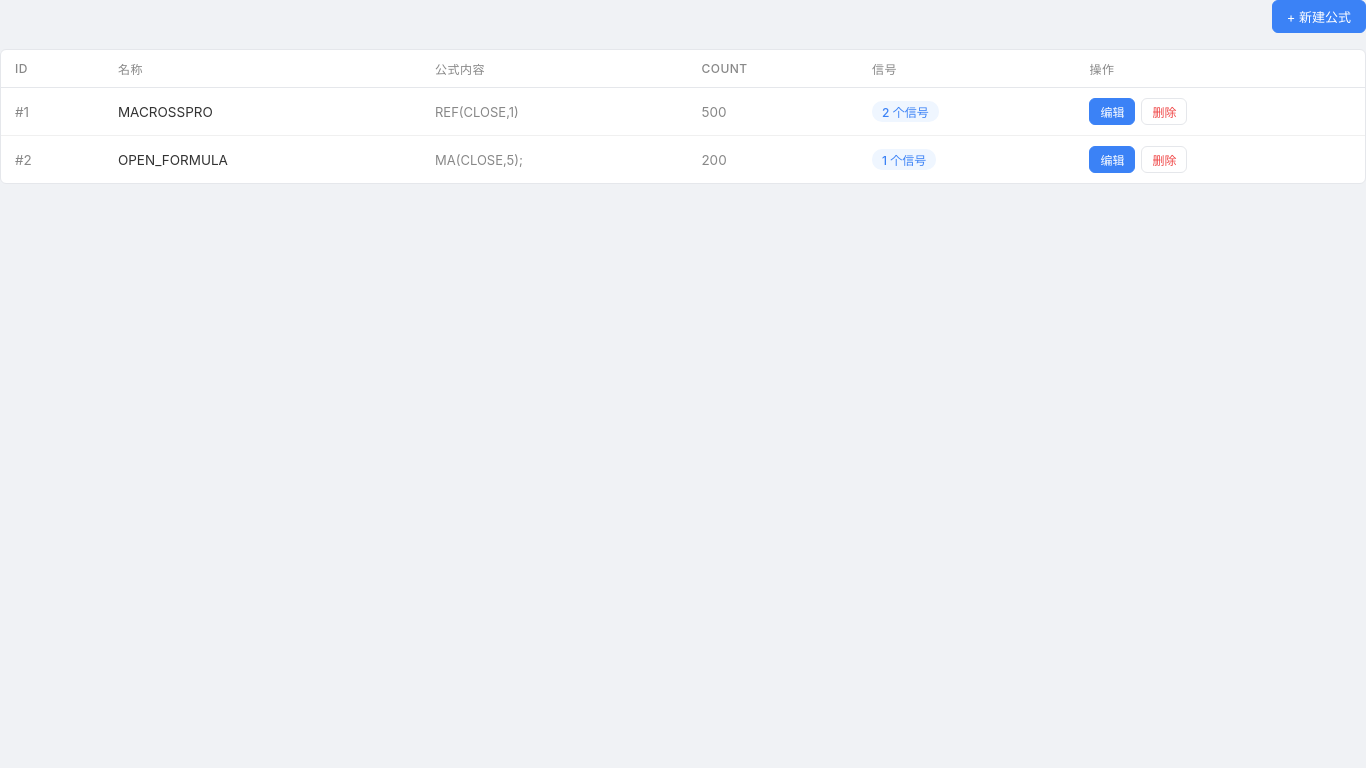
Scenario: Formulas.vue › 点[+添加信号]新增一行信号配置（信号行数 +1）
Click the button "+ 新建公式" at (1319,16), box [1272,0,1365,33]
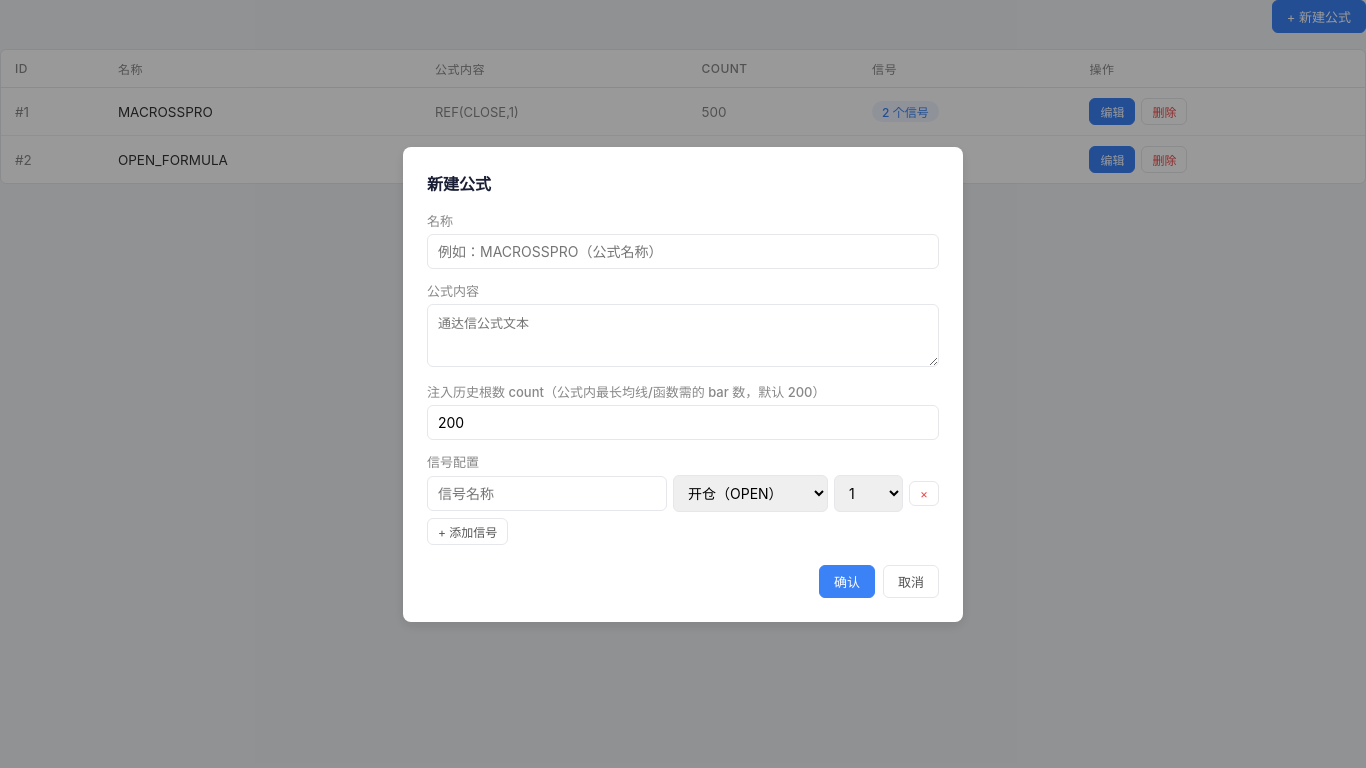
Click the button with class "signal-add" at (468,531), box [427,518,508,544]
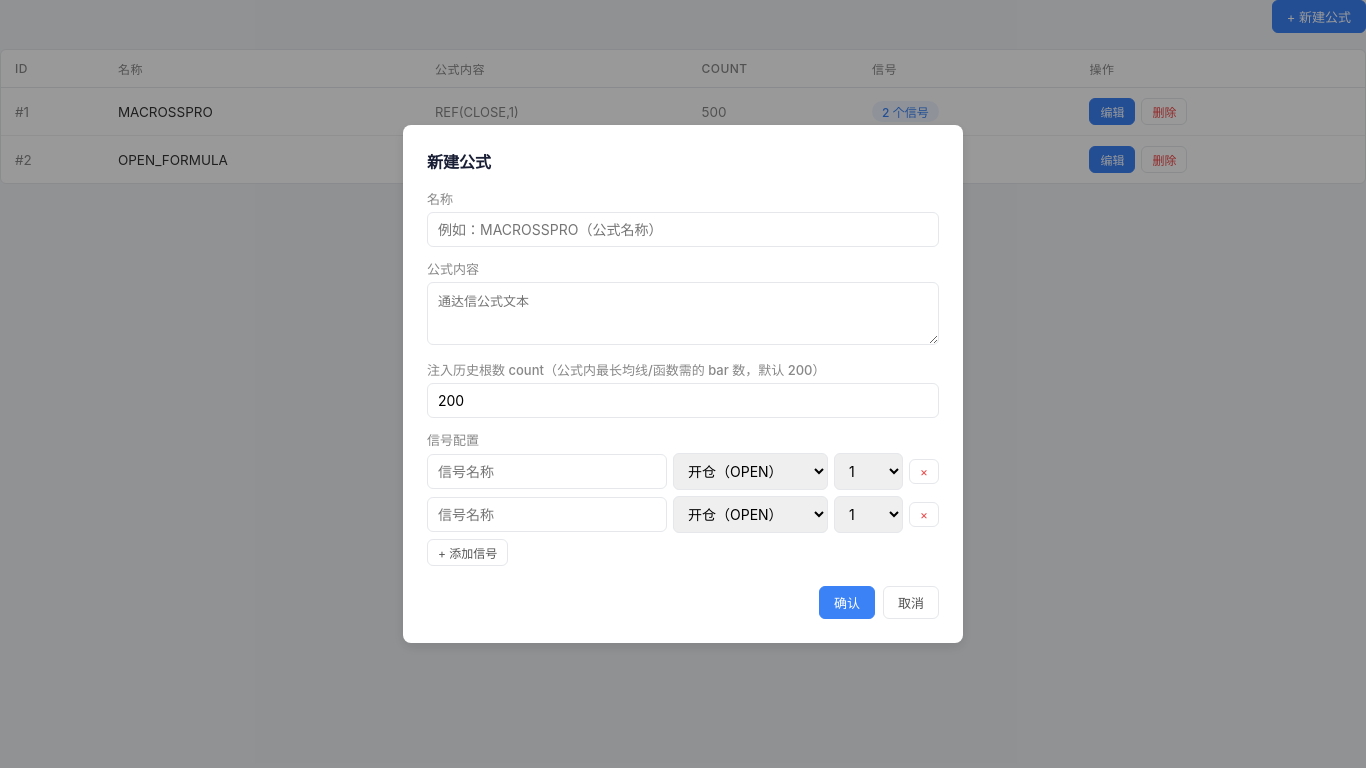
expect the number of elements with class "signal-row" is 2: met, box [427,453,939,490]; [427,496,939,533]
